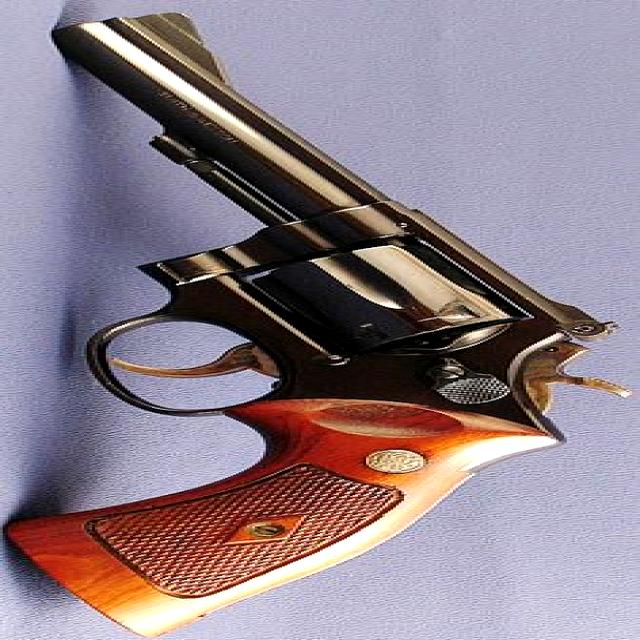revolver: (11, 5, 640, 640)
